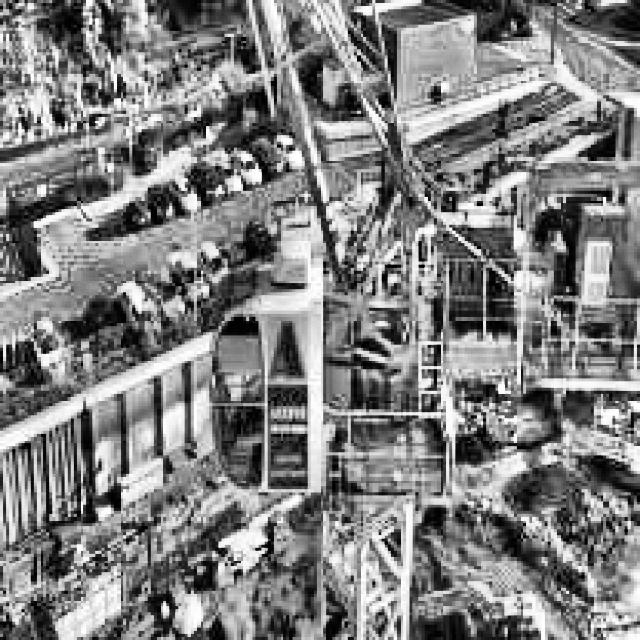excavator: (566, 397, 640, 508)
